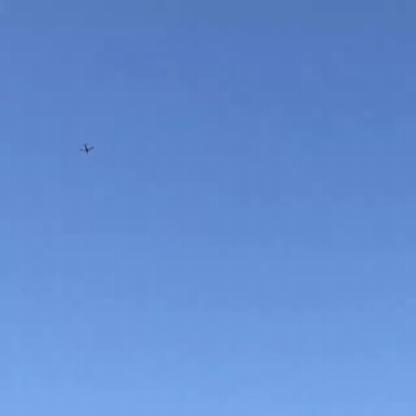CIV_Plane: (80, 144, 94, 156)
